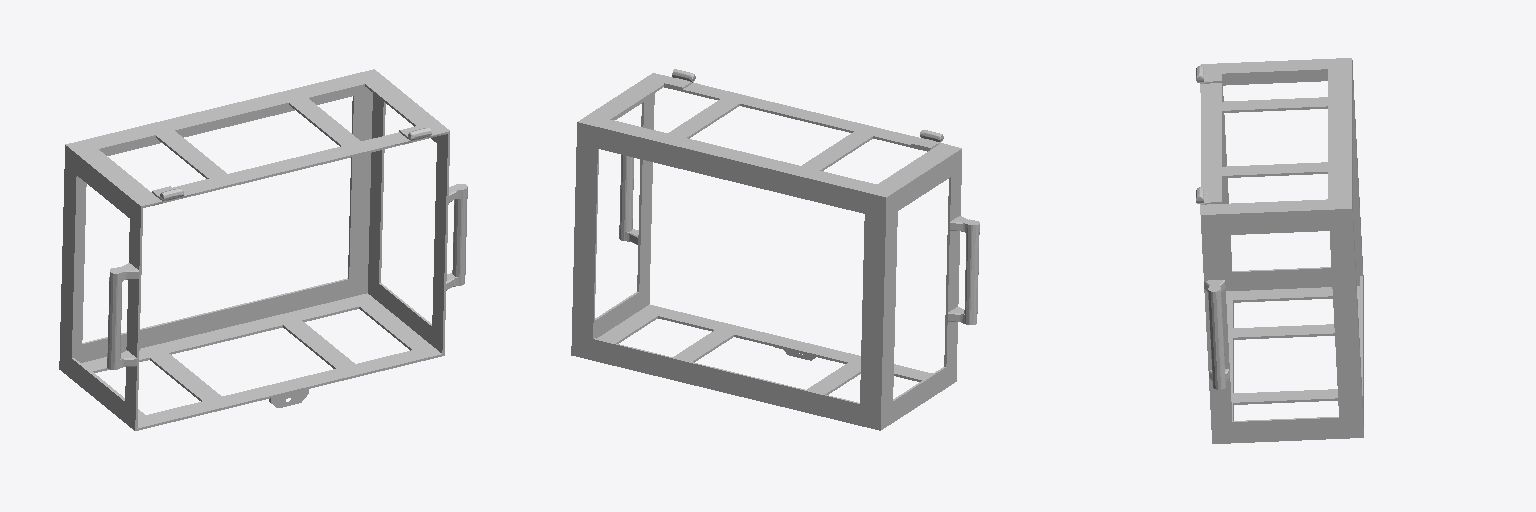
The model's file is fondCoffreAcier.obj.
3 views of the same model, side by side, from view 1: azimuth 30°, elevation 25°; view 2: azimuth 150°, elevation 25°; view 3: azimuth 270°, elevation 25° (orthographic).
Visible parts, largest first — view 1: framebottom.005; view 2: framebottom.005; view 3: framebottom.005.
Boxes of the visible parts, x1=… form: framebottom.005: x1=59, y1=69, x2=467, y2=430; framebottom.005: x1=571, y1=69, x2=979, y2=430; framebottom.005: x1=1196, y1=58, x2=1363, y2=443.
Bounding box in the file's own units: 3.32 × 2.23 × 1.36.